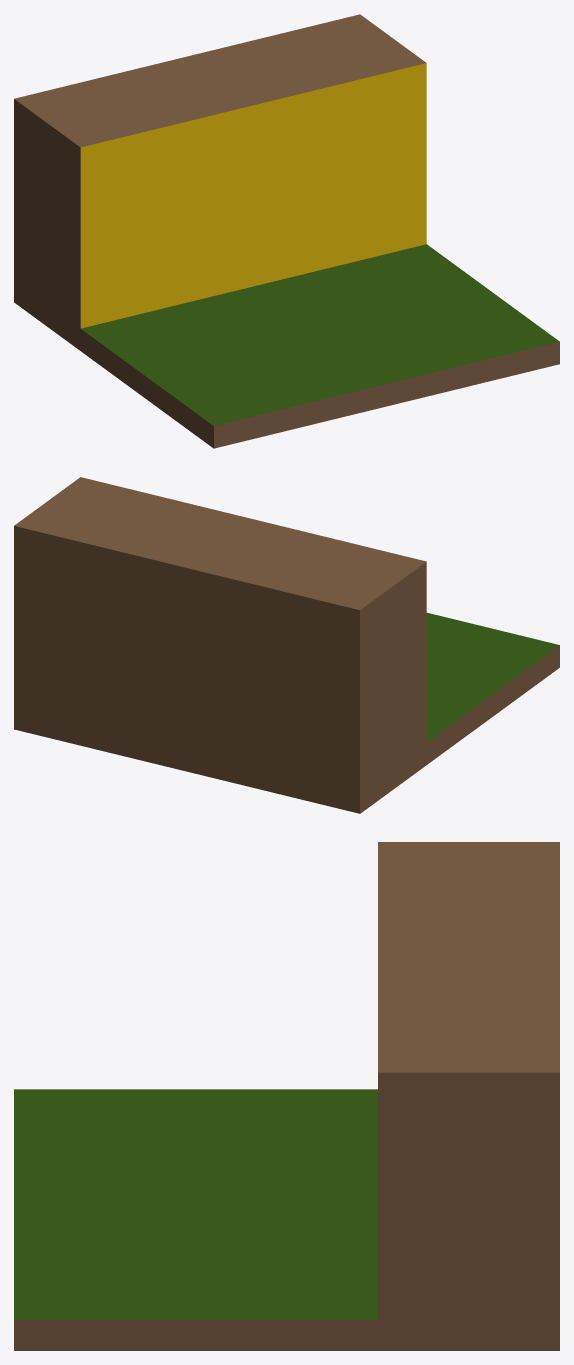
3 views of the same model, one above another, from view 1: azimuth 30°, elevation 25°; view 2: azimuth 150°, elevation 25°; view 3: azimuth 270°, elevation 25° (orthographic). The views are drawn at different scales.
Visible parts, largest first — view 1: W; view 2: W; view 3: W.
Part boxes in pixels (x1,y1,x2,y2): W: (14, 14, 559, 448); W: (14, 477, 559, 813); W: (14, 842, 559, 1350).
Size of the model in its own units: 2 by 1.12 by 2.
1 material, 1 textured.
